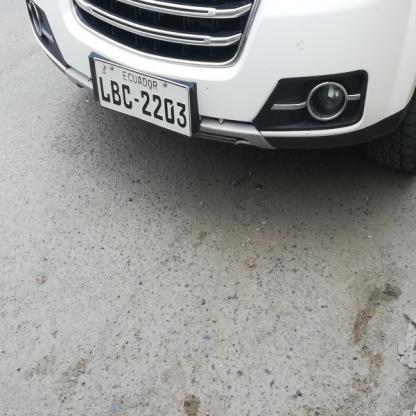Placa: (91, 52, 197, 148)
